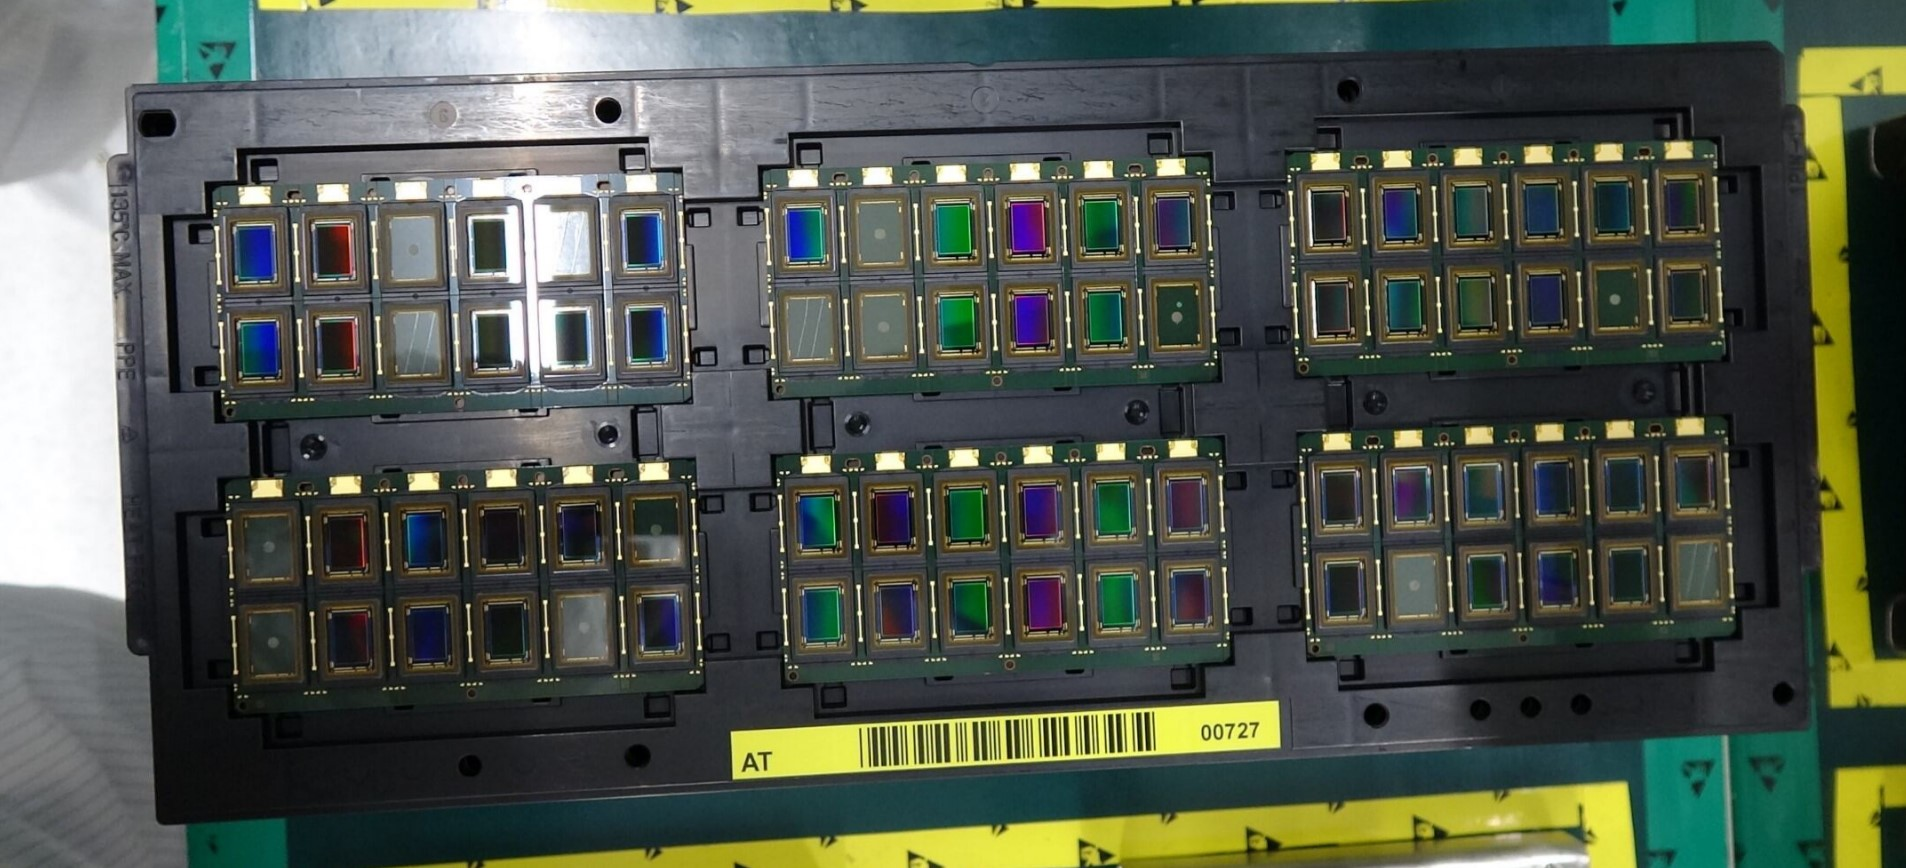Bad_mark_from_BMS_mold: (532, 195, 600, 284), (776, 281, 842, 370), (380, 299, 450, 384), (1665, 529, 1730, 610)
Bad_mark_from_Maker: (376, 199, 446, 288), (622, 483, 689, 573), (232, 501, 300, 586), (1144, 269, 1211, 355), (848, 280, 915, 366), (1584, 254, 1648, 343), (552, 585, 618, 667), (239, 601, 301, 688), (846, 187, 910, 270), (1383, 543, 1447, 627)
